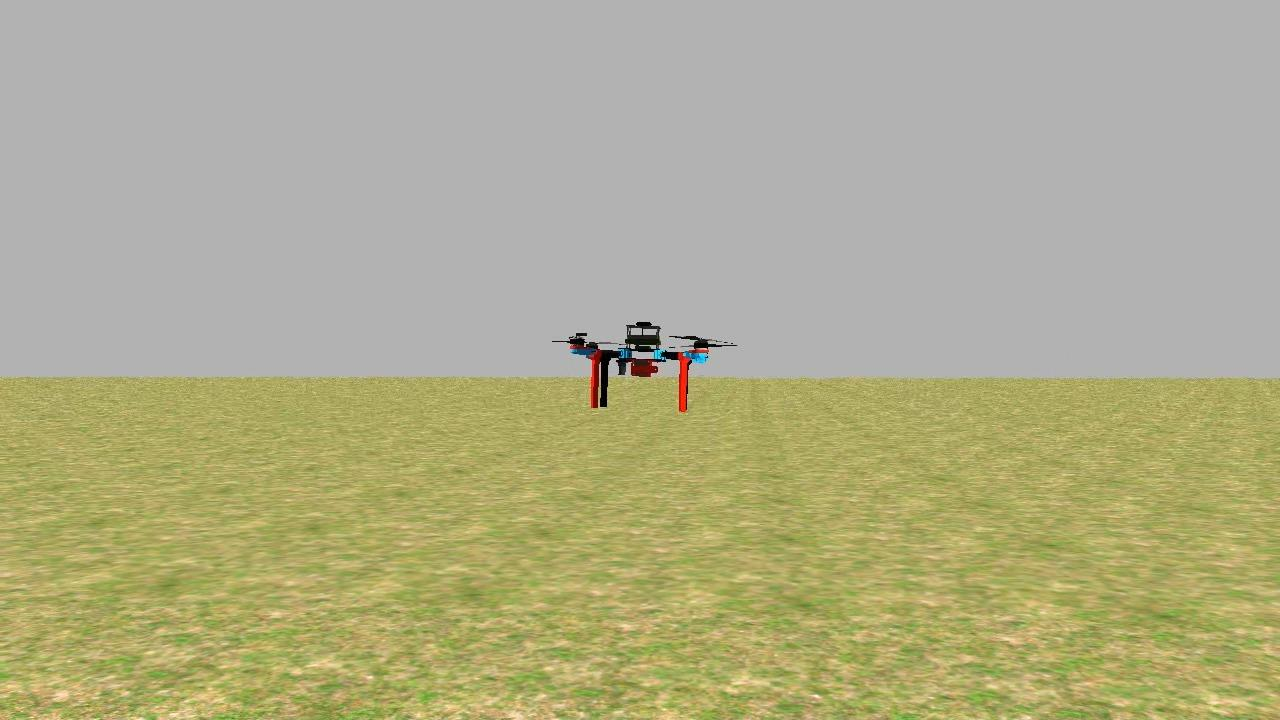UAV: (551, 306, 719, 421)
